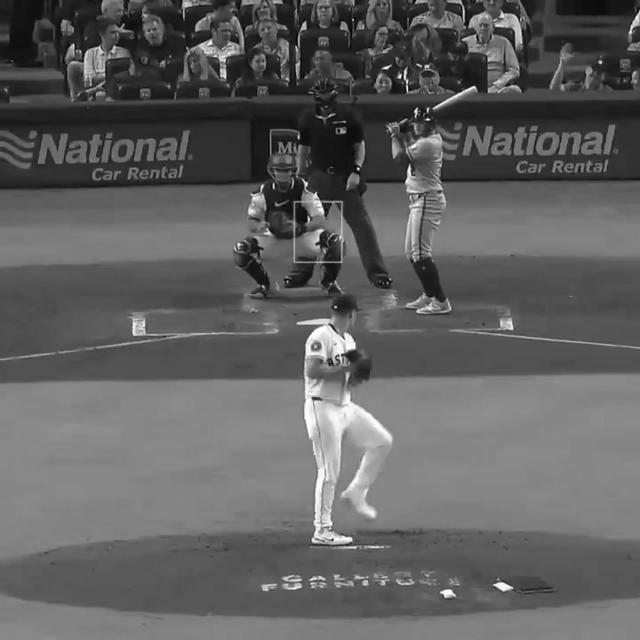base: (293, 313, 335, 325)
baseball_glove: (268, 212, 303, 234), (345, 350, 371, 378)
bat: (400, 84, 478, 126)
shoe: (340, 490, 376, 521), (313, 528, 351, 548), (407, 286, 433, 311), (418, 302, 455, 315), (318, 276, 342, 295), (250, 284, 276, 299)
